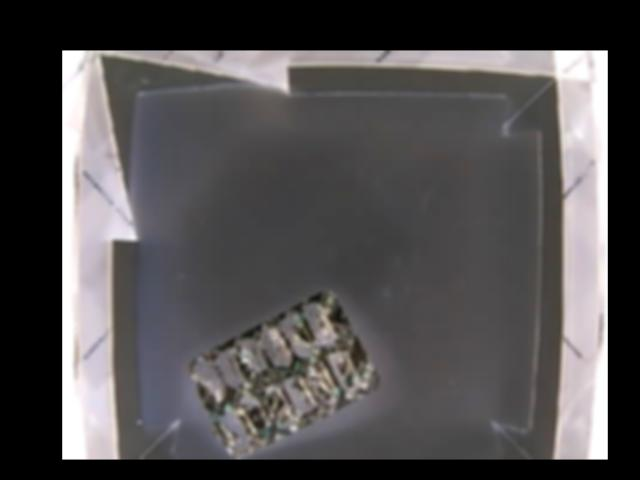Medicine: (191, 291, 384, 457)
